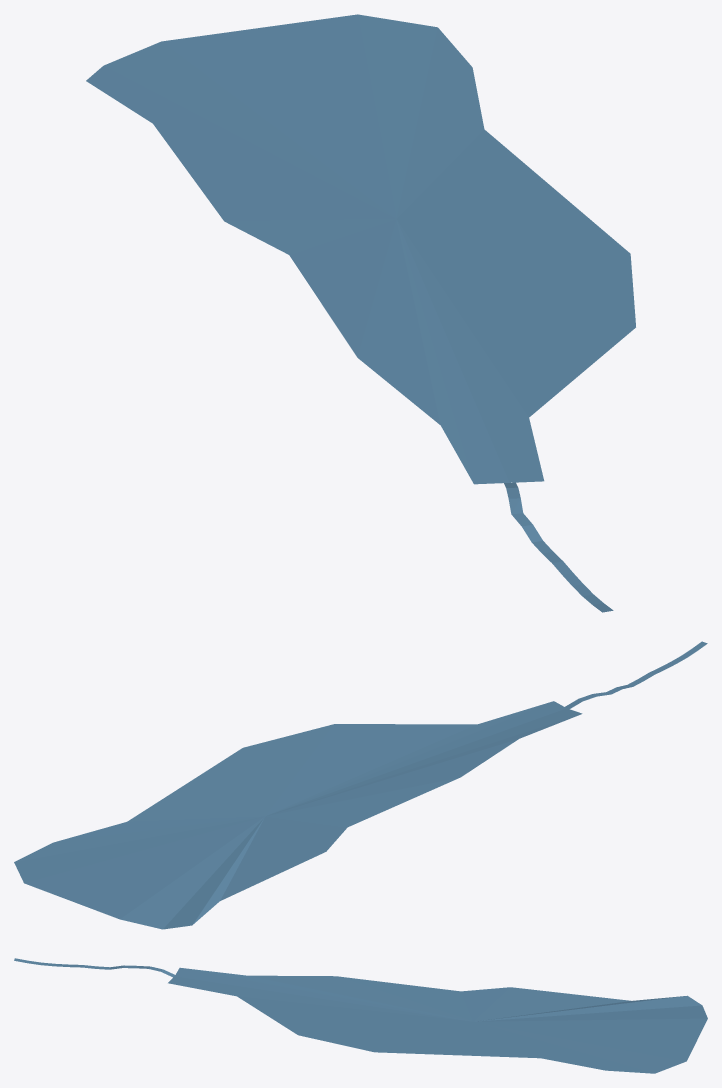
Rendered from c_1629_17824_water.glb.
The picture shows the model from 3 angles, top to bottom: view 1: azimuth 30°, elevation 25°; view 2: azimuth 150°, elevation 25°; view 3: azimuth 270°, elevation 25°; orthographic projection. The views are drawn at different scales.
Parts seen in each view (by area): view 1: geometry_0; view 2: geometry_0; view 3: geometry_0.
Boxes of the visible parts, left/top/right/bottom form: geometry_0: left=86, top=14, right=635, bottom=612; geometry_0: left=14, top=641, right=707, bottom=929; geometry_0: left=14, top=958, right=707, bottom=1073.
Size of the model in its own units: 112 by 2.24 by 282.
